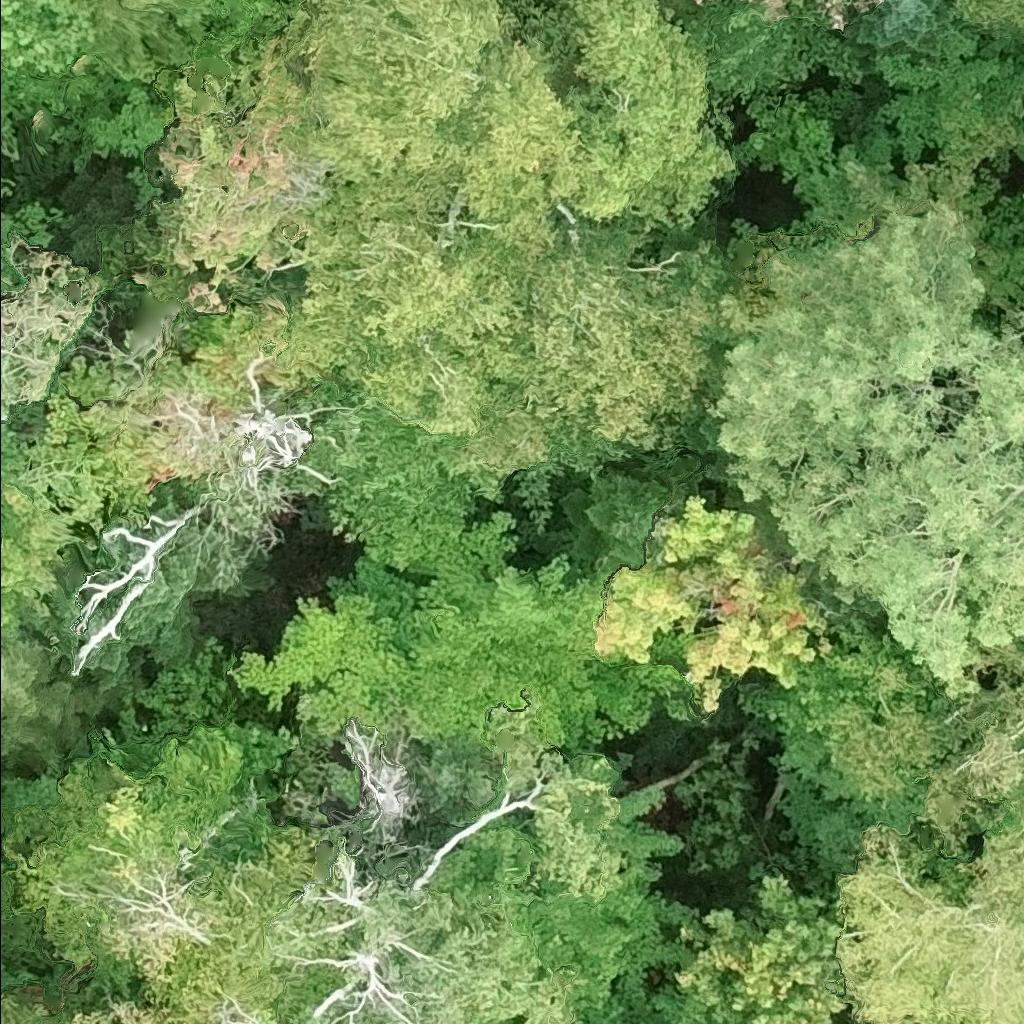crown: (703, 198, 1023, 702), (0, 300, 295, 637), (231, 551, 688, 743), (300, 0, 585, 253), (275, 169, 531, 436), (593, 496, 833, 711), (732, 615, 966, 831), (731, 98, 1023, 264), (160, 33, 333, 311), (823, 823, 1023, 1023), (557, 0, 736, 222), (517, 247, 715, 447), (913, 636, 1023, 900), (672, 861, 846, 1023), (667, 0, 859, 144), (0, 934, 286, 1023), (196, 372, 315, 582), (874, 25, 1023, 159), (0, 240, 100, 420), (0, 640, 75, 759), (0, 0, 95, 78), (857, 0, 956, 57), (0, 198, 54, 301), (976, 243, 1023, 332), (100, 0, 219, 30), (647, 986, 743, 1023), (817, 0, 886, 37), (578, 996, 669, 1023), (950, 0, 1023, 27), (738, 0, 786, 25), (500, 1015, 518, 1023)
